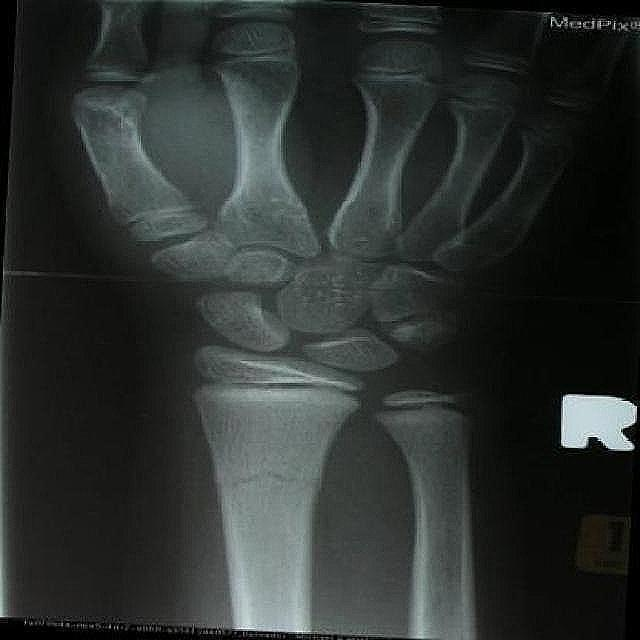bone: (197, 434, 346, 522)
